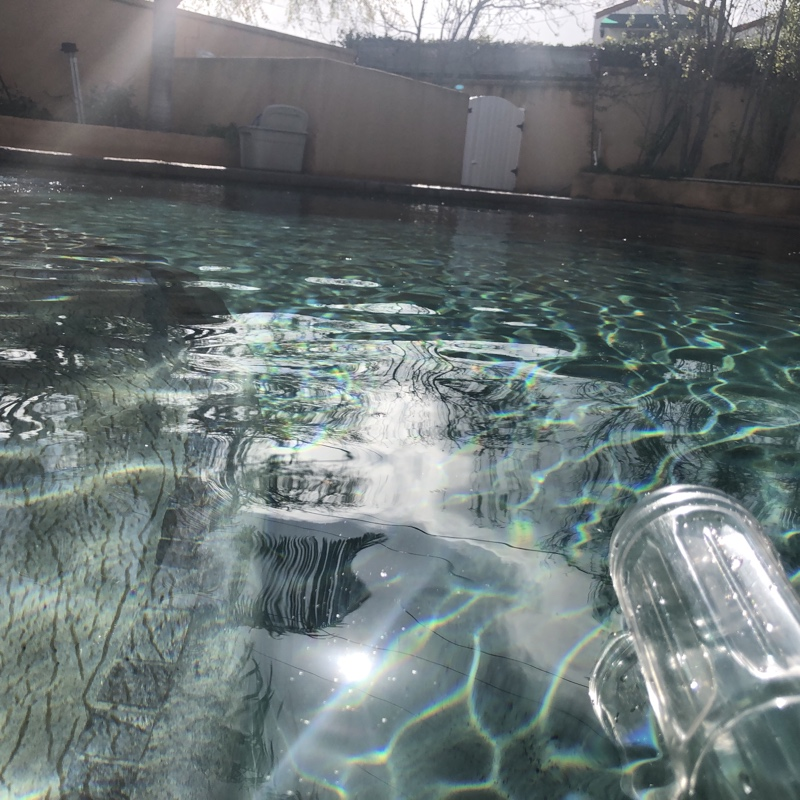Plastic Bottle: (602, 477, 800, 800)
